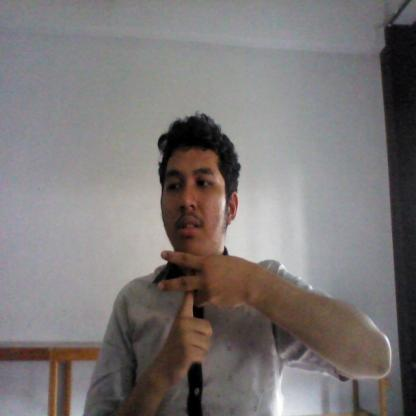F: (156, 248, 250, 380)
